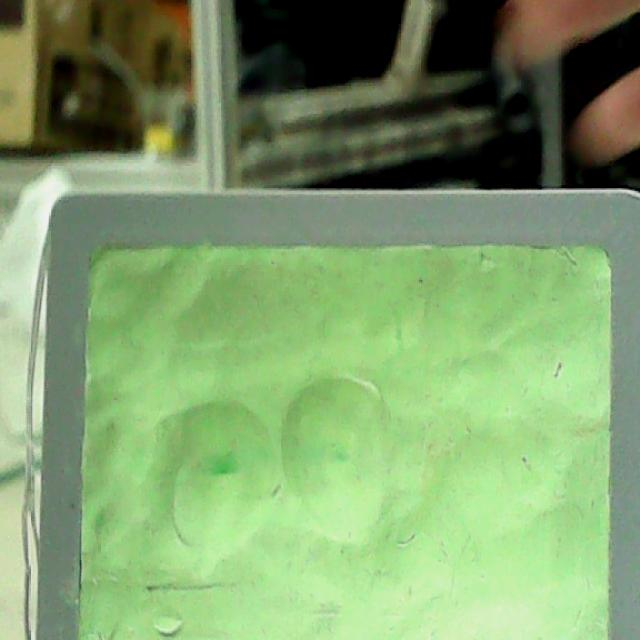block: (28, 189, 640, 640)
